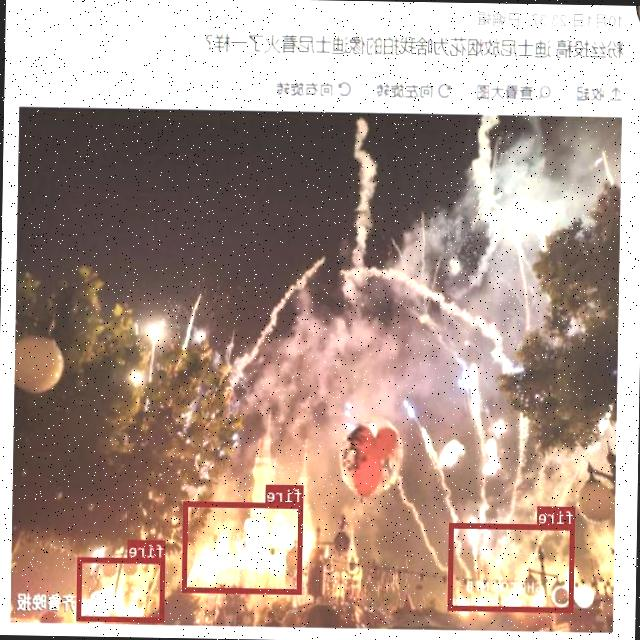fire: (182, 500, 304, 593), (448, 522, 574, 612), (78, 555, 166, 621)
